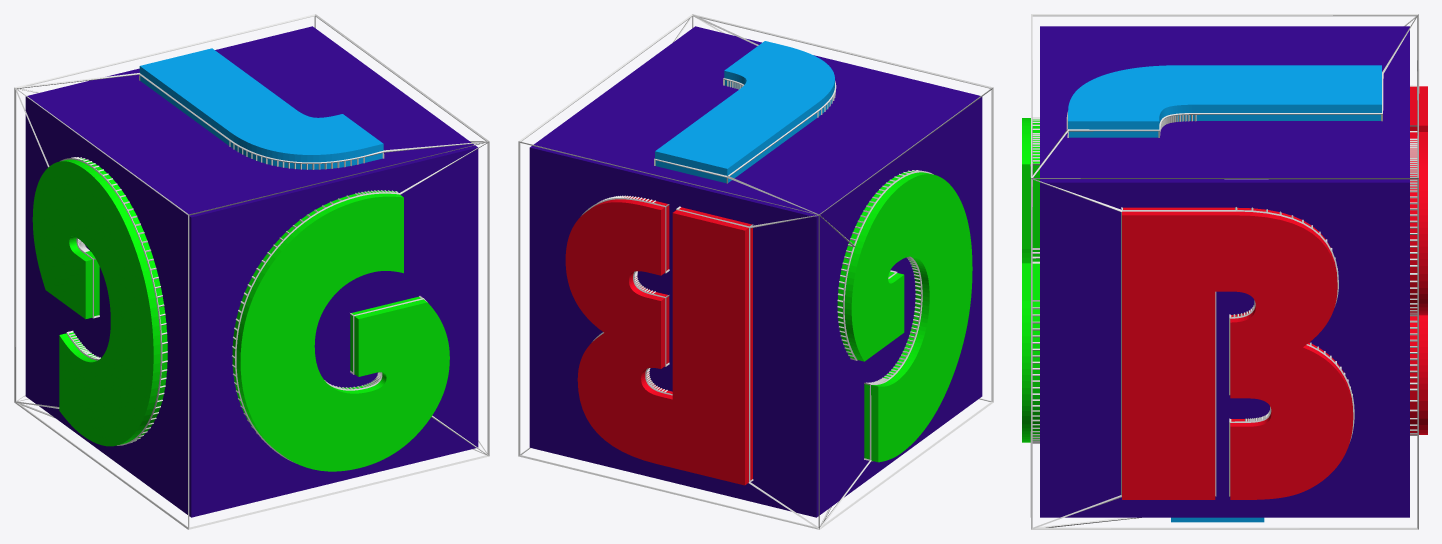
Rendered from favicon.glb.
3 renders of one model, left to right at view 1: azimuth 30°, elevation 25°; view 2: azimuth 150°, elevation 25°; view 3: azimuth 270°, elevation 25°, orthographic. The views are drawn at different scales.
Parts seen in each view (by area): view 1: Cube.001, G.001, G.002, L.001, Cube; view 2: Cube.001, B.002, G.002, L.001, Cube; view 3: Cube.001, B.001, L.001, Cube, B.002, G.001, L.002.
Part boxes in pixels (<box>): Cube.001: <box>25,26,478,517</box>; G.001: <box>232,190,449,471</box>; G.002: <box>32,158,167,446</box>; L.001: <box>139,48,383,169</box>; Cube: <box>14,14,489,529</box>; Cube.001: <box>529,26,982,517</box>; B.002: <box>565,196,752,485</box>; G.002: <box>837,171,972,462</box>; L.001: <box>655,41,834,183</box>; Cube: <box>518,14,993,529</box>; Cube.001: <box>1040,26,1409,517</box>; B.001: <box>1122,207,1353,499</box>; L.001: <box>1068,65,1381,137</box>; Cube: <box>1030,14,1419,529</box>; B.002: <box>1410,86,1427,434</box>; G.001: <box>1022,118,1039,442</box>; L.002: <box>1171,517,1264,522</box>.
Bounding box in the file's own units: 2.1 × 2.1 × 2.1.
